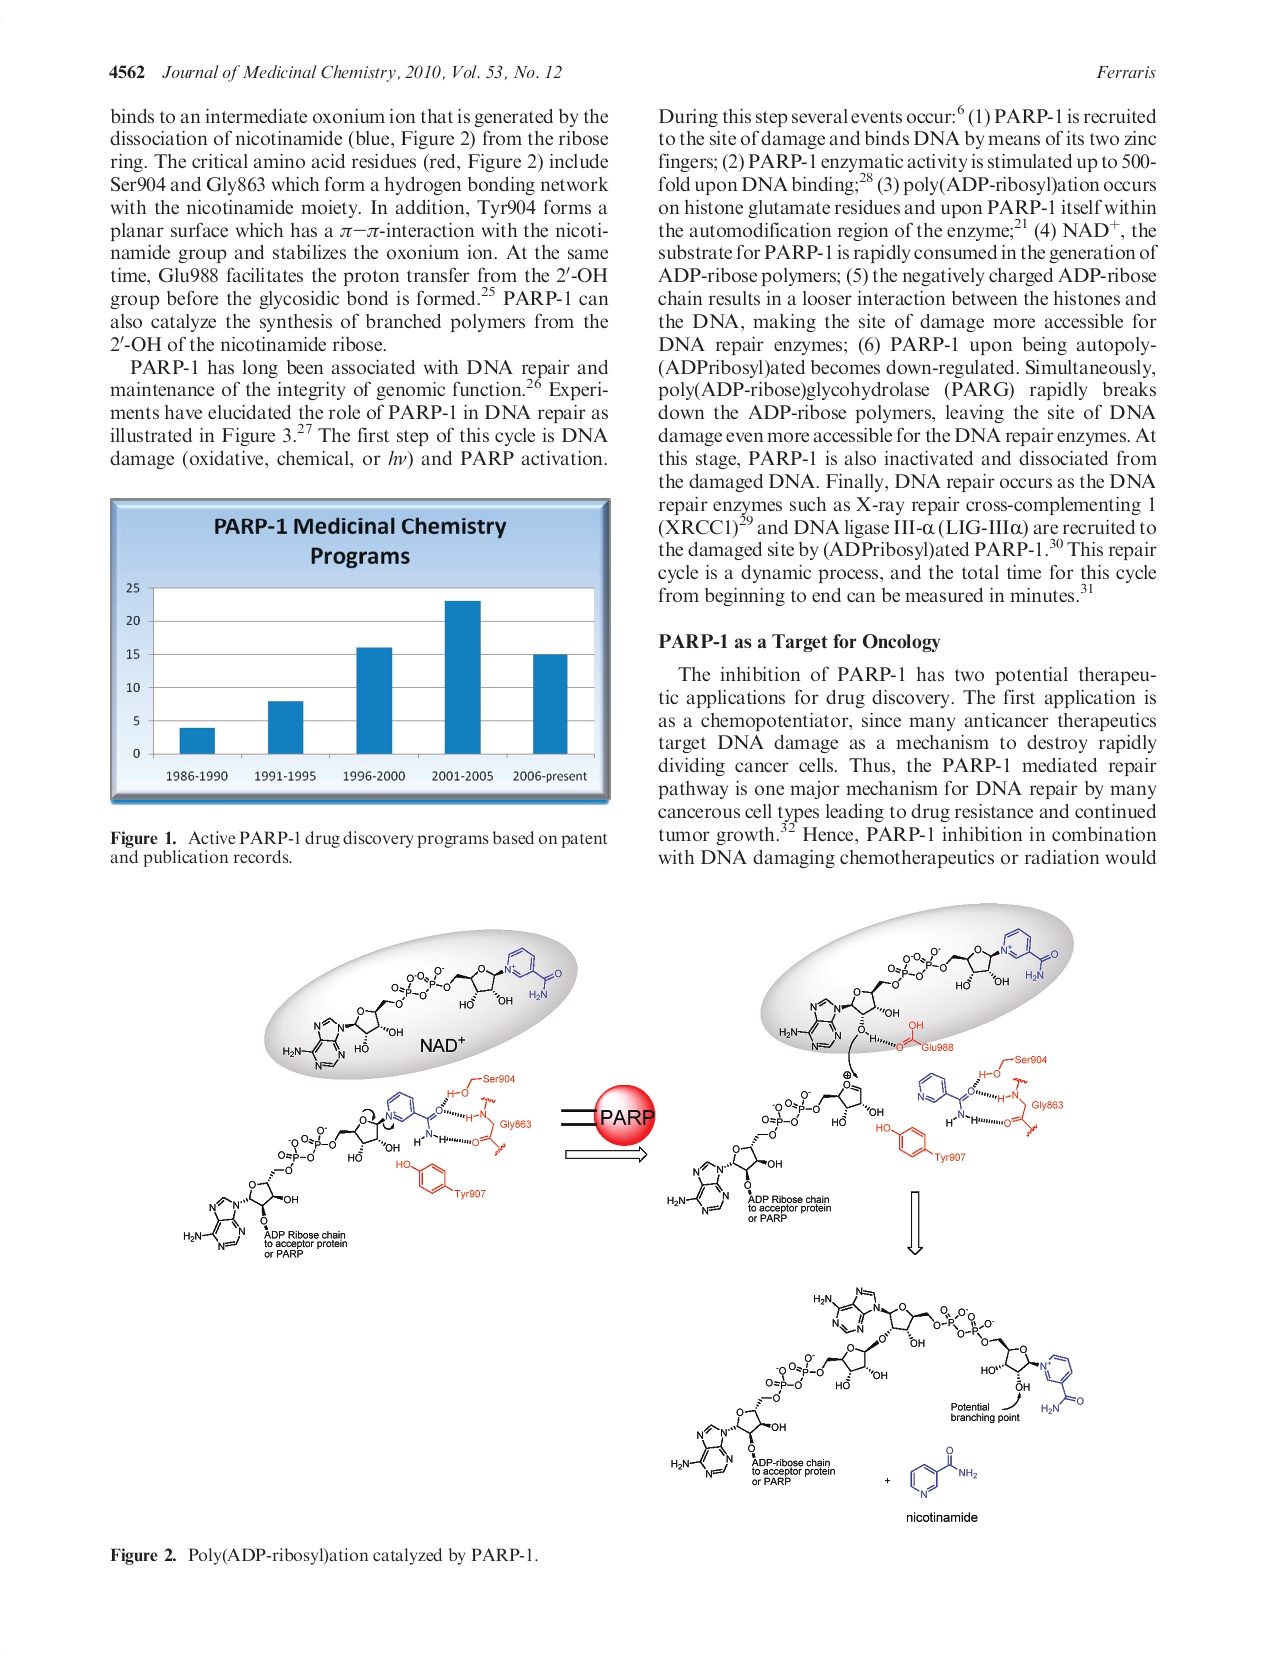exist_molecular: (664, 1283, 1088, 1491), (181, 1071, 536, 1263), (665, 1079, 967, 1227), (277, 944, 567, 1072), (777, 928, 1063, 1055), (918, 1048, 1068, 1138), (903, 1444, 981, 1501)
